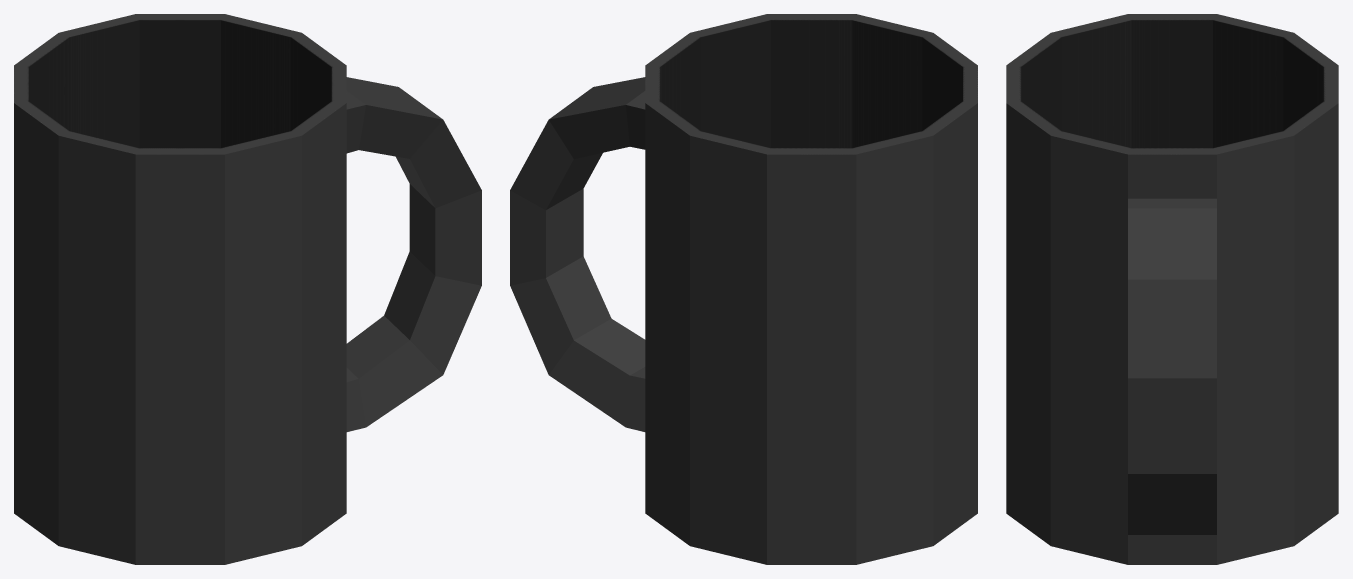
Rendered from Mug_Black.fbx.
3 renders of one model, left to right at view 1: azimuth 30°, elevation 25°; view 2: azimuth 150°, elevation 25°; view 3: azimuth 270°, elevation 25°, orthographic.
Parts seen in each view (by area): view 1: Mug.005; view 2: Mug.005; view 3: Mug.005.
Boxes of the visible parts, bbox=[...] form: Mug.005: bbox=[14, 14, 481, 564]; Mug.005: bbox=[510, 14, 977, 564]; Mug.005: bbox=[1006, 14, 1338, 564].
Bounding box in the file's own units: 10.79 × 10 × 7.34.
